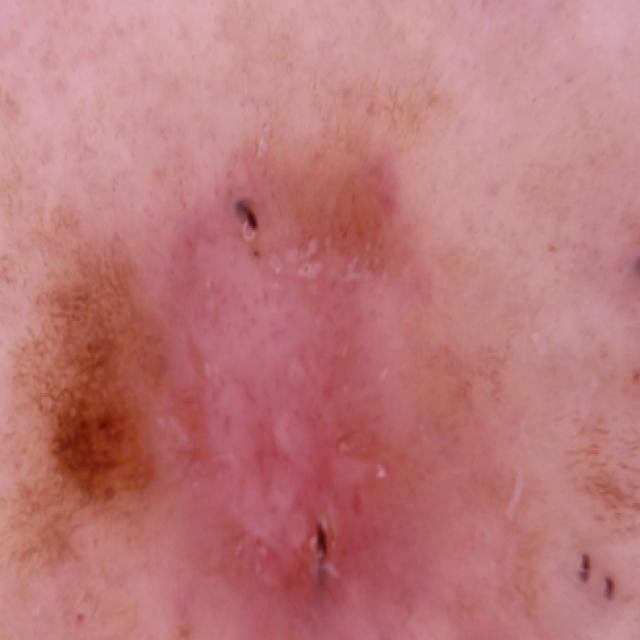Keratosis: (136, 178, 467, 630), (18, 260, 177, 638), (418, 383, 640, 640)
